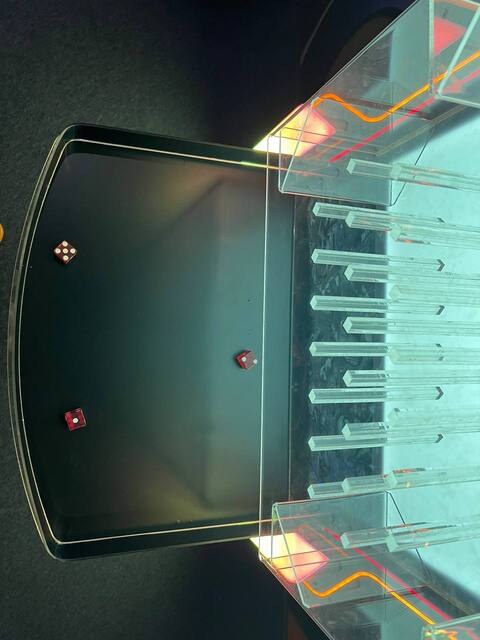five: (50, 237, 80, 266)
one: (63, 407, 89, 432)
two: (237, 349, 261, 371)
